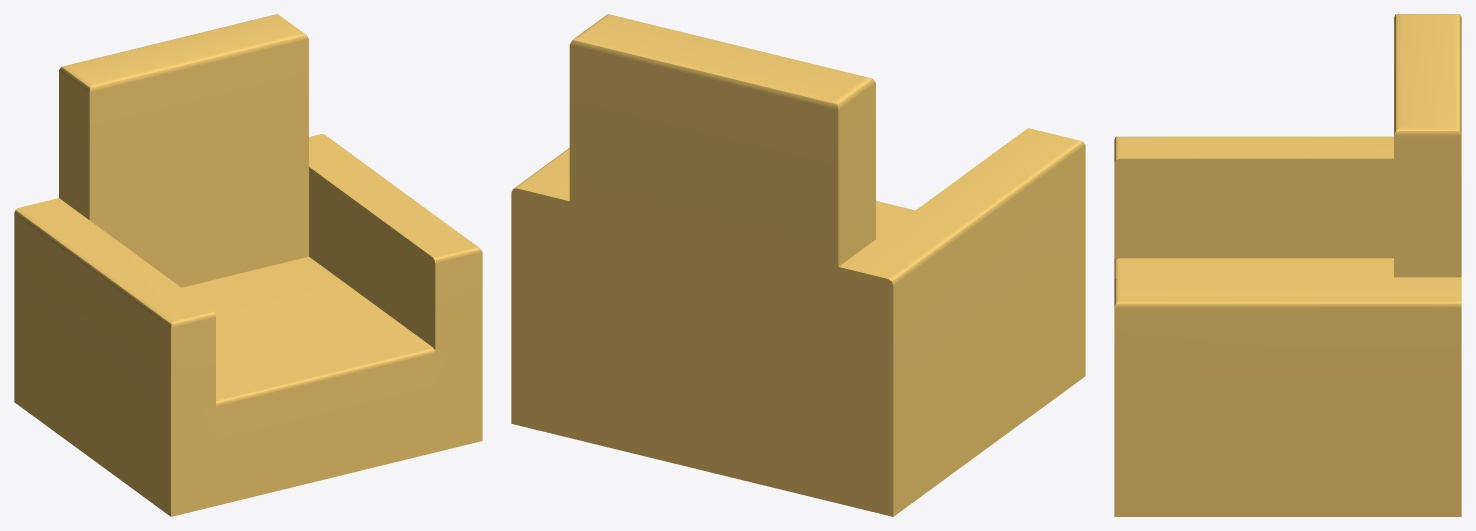
File: Armchair_Text.fbx
The picture shows the model from 3 angles, left to right: view 1: azimuth 30°, elevation 25°; view 2: azimuth 150°, elevation 25°; view 3: azimuth 270°, elevation 25°; orthographic projection. The views are drawn at different scales.
Parts seen in each view (by area): view 1: Fauteuil; view 2: Fauteuil; view 3: Fauteuil.
Boxes of the visible parts, x1,y1,x2,y2 form: Fauteuil: [14, 14, 482, 516]; Fauteuil: [511, 14, 1085, 516]; Fauteuil: [1114, 14, 1461, 516].
Bounding box in the file's own units: 136 × 136 × 118.
Materials: 1 (1 with a texture image).
